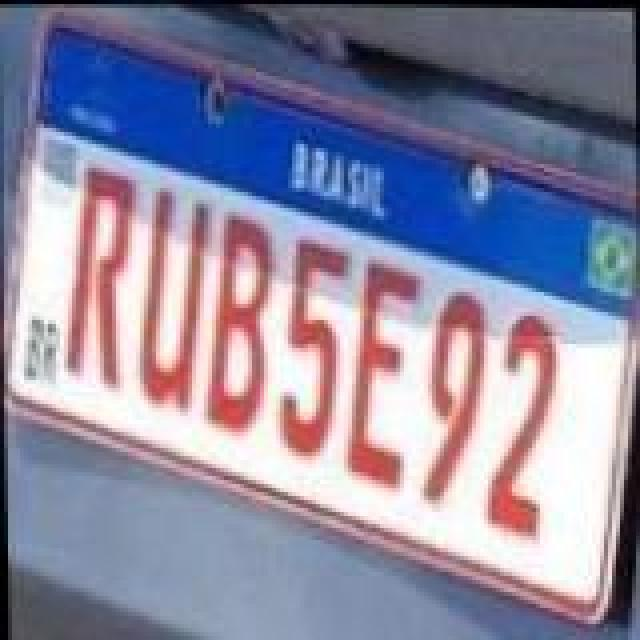5: (276, 240, 352, 456)
9: (478, 302, 570, 542), (416, 288, 488, 504)
B: (200, 212, 276, 428)
E: (342, 256, 422, 484)
R: (60, 166, 136, 390)
U: (136, 186, 212, 414)
